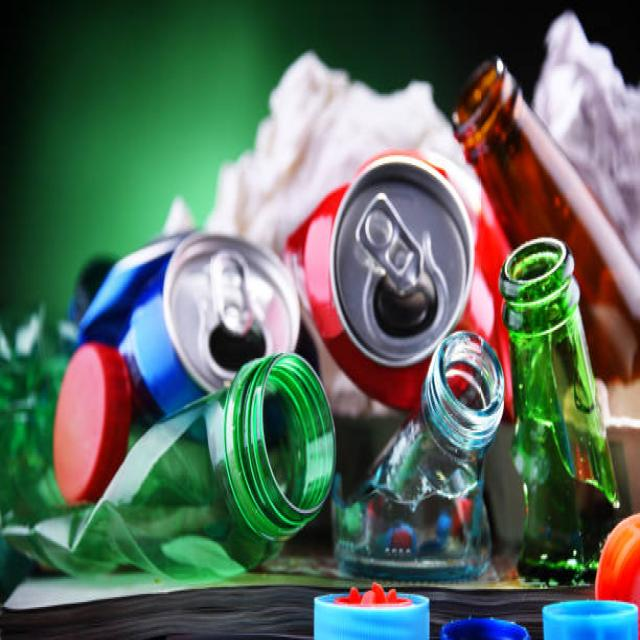glass: (220, 371, 560, 541)
metal: (115, 150, 471, 345)
